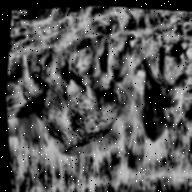boar: (23, 27, 149, 164)
